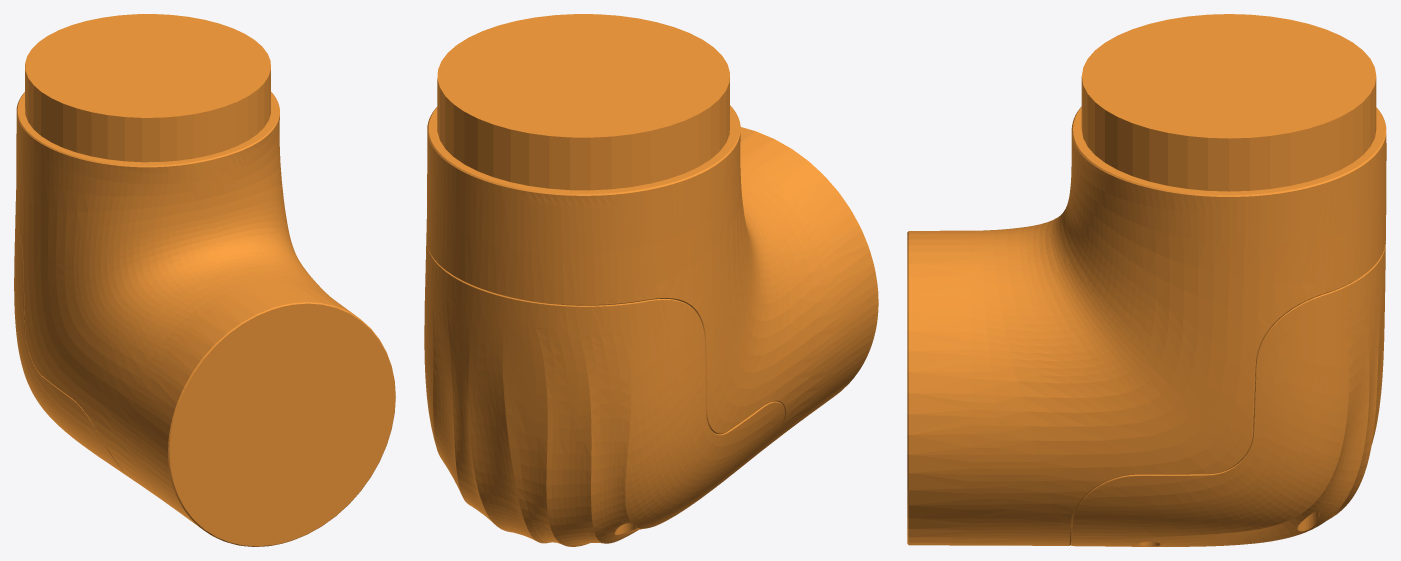
Rendered from DobotNova2Link4.dae.
3 views of the same model, side by side, from view 1: azimuth 30°, elevation 25°; view 2: azimuth 150°, elevation 25°; view 3: azimuth 270°, elevation 25° (orthographic). The views are drawn at different scales.
Parts seen in each view (by area): view 1: DobotNova2Link4; view 2: DobotNova2Link4; view 3: DobotNova2Link4.
Part boxes in pixels (bbox=[...]): DobotNova2Link4: bbox=[14, 14, 395, 546]; DobotNova2Link4: bbox=[424, 14, 878, 546]; DobotNova2Link4: bbox=[907, 14, 1386, 546].
Bounding box in the file's own units: 0.071 × 0.1065 × 0.1115.
